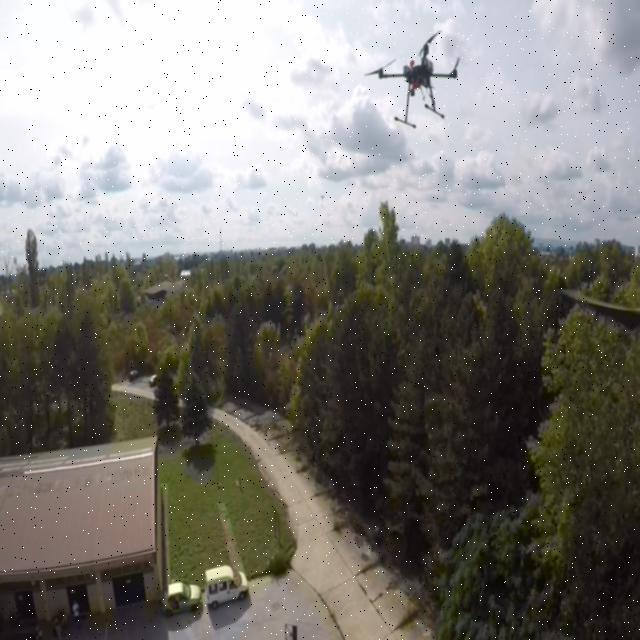UAV: (366, 29, 466, 129)
